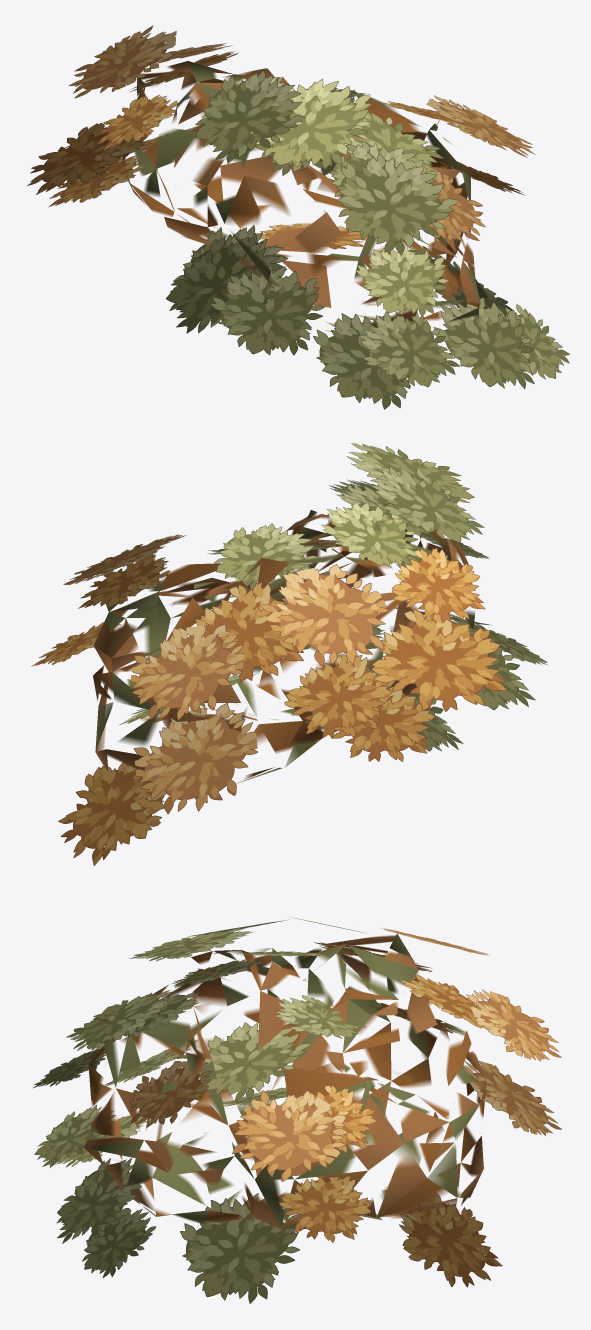
The model's file is bush.glb.
The picture shows the model from 3 angles, top to bottom: view 1: azimuth 30°, elevation 25°; view 2: azimuth 150°, elevation 25°; view 3: azimuth 270°, elevation 25°; orthographic projection. The views are drawn at different scales.
Visible parts, largest first — view 1: bush; view 2: bush; view 3: bush.
Part boxes in pixels (x1,y1,x2,y2): bush: (27,25,569,409); bush: (31,443,547,865); bush: (32,917,561,1303).
Size of the model in its own units: 2.42 by 1.47 by 2.59.
Materials: 1 (1 with a texture image).
